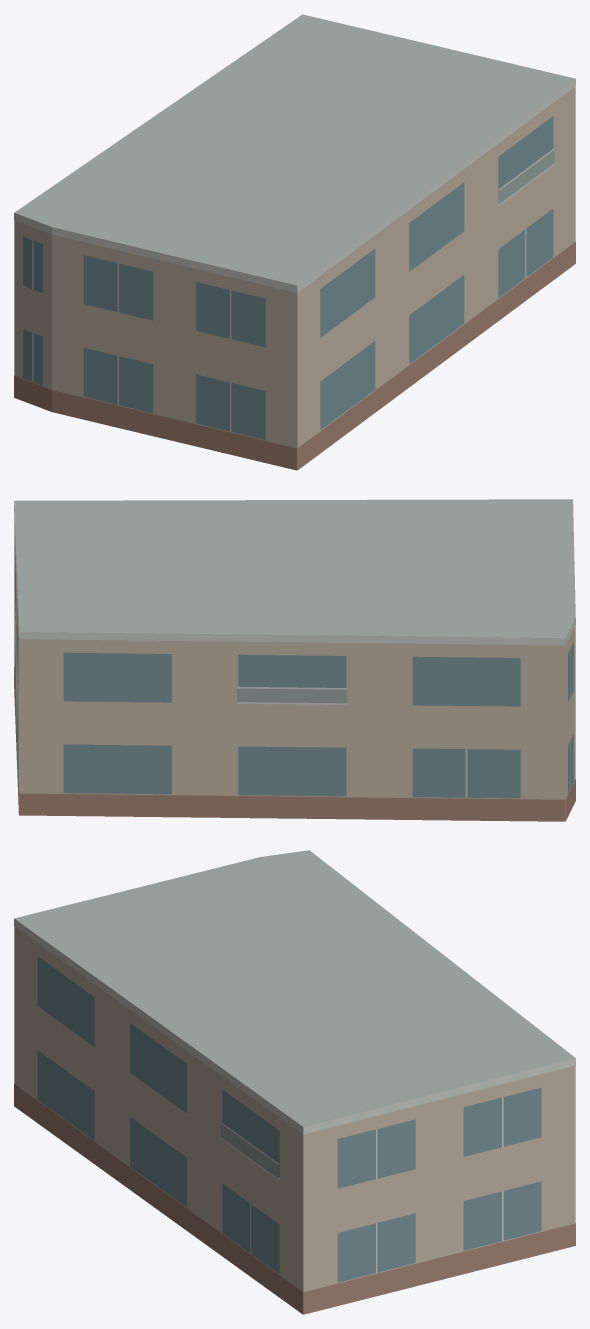
Rendered from survey-upis-32936038.glb.
3 views of the same model, one above another, from view 1: azimuth 30°, elevation 25°; view 2: azimuth 150°, elevation 25°; view 3: azimuth 270°, elevation 25° (orthographic). The views are drawn at different scales.
Parts seen in each view (by area): view 1: survey-upis-32936038.tmp; view 2: survey-upis-32936038.tmp; view 3: survey-upis-32936038.tmp.
Part boxes in pixels (x1,y1,x2,y2): survey-upis-32936038.tmp: [14, 14, 575, 470]; survey-upis-32936038.tmp: [14, 499, 575, 821]; survey-upis-32936038.tmp: [14, 850, 575, 1314].
Bounding box in the file's own units: 19.29 × 6.1 × 16.55.
